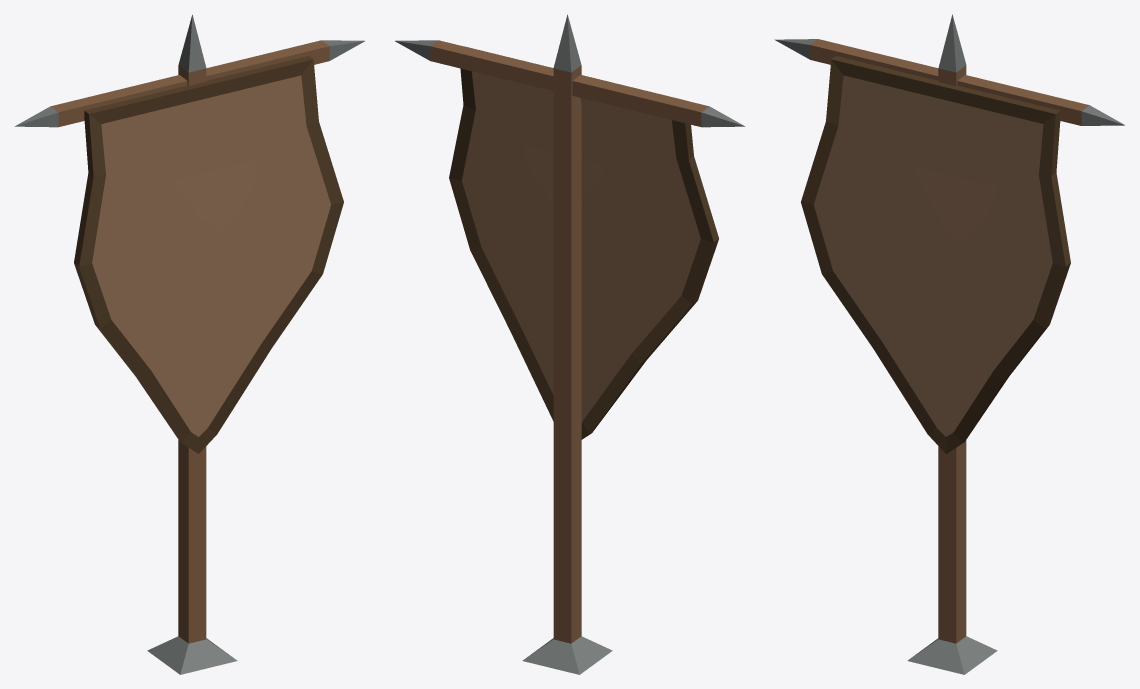
The model's file is Banner_3_Brown.fbx.
3 views of the same model, side by side, from view 1: azimuth 30°, elevation 25°; view 2: azimuth 150°, elevation 25°; view 3: azimuth 330°, elevation 25° (orthographic).
Visible parts, largest first — view 1: Banner_3_Brown_Part_3, Banner_3_Brown_Part_4, Banner_3_Brown_Part_1, Banner_3_Brown_Part_2; view 2: Banner_3_Brown_Part_3, Banner_3_Brown_Part_1, Banner_3_Brown_Part_4, Banner_3_Brown_Part_2; view 3: Banner_3_Brown_Part_3, Banner_3_Brown_Part_4, Banner_3_Brown_Part_1, Banner_3_Brown_Part_2.
Part boxes in pixels (x1=…): Banner_3_Brown_Part_3: x1=92, y1=75, x2=330, y2=436; Banner_3_Brown_Part_4: x1=74, y1=56, x2=343, y2=453; Banner_3_Brown_Part_1: x1=50, y1=40, x2=329, y2=643; Banner_3_Brown_Part_2: x1=14, y1=14, x2=364, y2=674; Banner_3_Brown_Part_3: x1=462, y1=71, x2=700, y2=421; Banner_3_Brown_Part_1: x1=430, y1=40, x2=709, y2=643; Banner_3_Brown_Part_4: x1=449, y1=47, x2=718, y2=439; Banner_3_Brown_Part_2: x1=395, y1=14, x2=745, y2=674; Banner_3_Brown_Part_3: x1=814, y1=75, x2=1052, y2=436; Banner_3_Brown_Part_4: x1=801, y1=56, x2=1070, y2=453; Banner_3_Brown_Part_1: x1=810, y1=39, x2=1089, y2=643; Banner_3_Brown_Part_2: x1=774, y1=14, x2=1124, y2=674.
Size of the model in its own units: 172 by 300 by 30.33.
